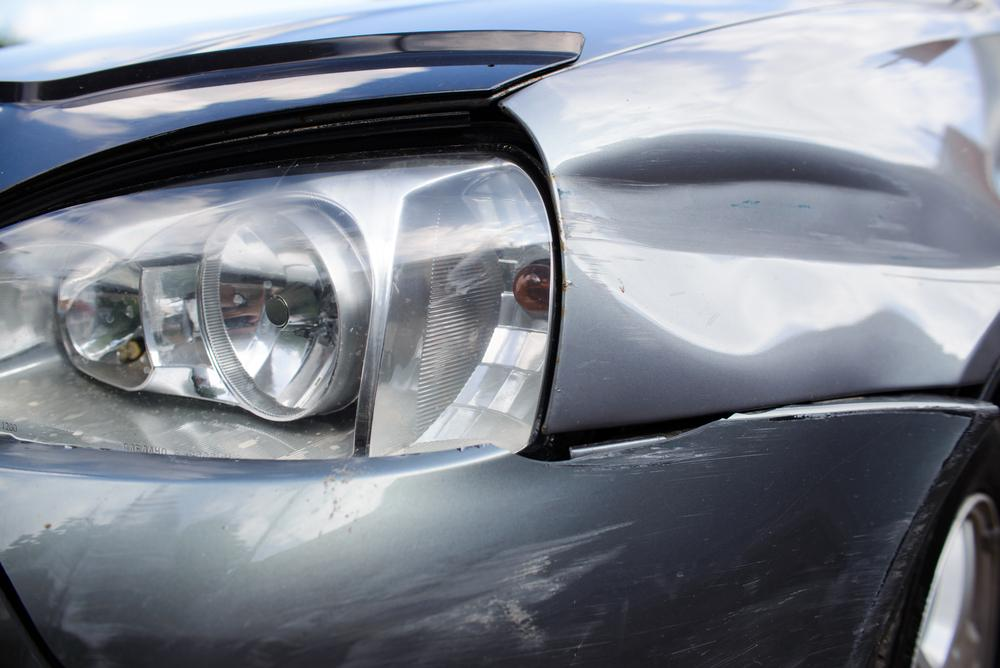dent: (551, 133, 1000, 358)
scratch: (49, 400, 982, 668)
